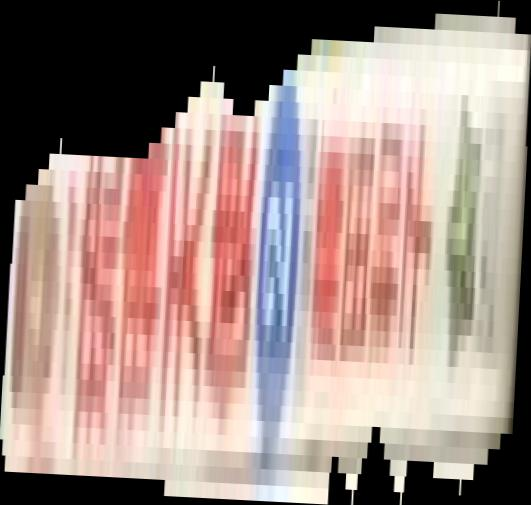flat: (1, 1, 531, 505)
